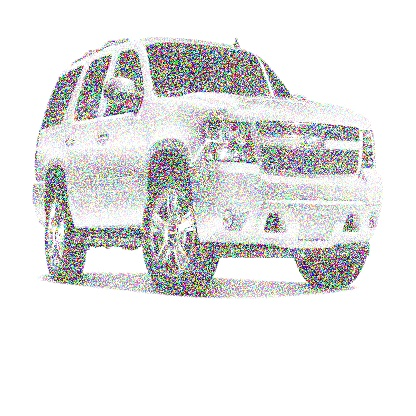Vehicle: (32, 34, 385, 296)
